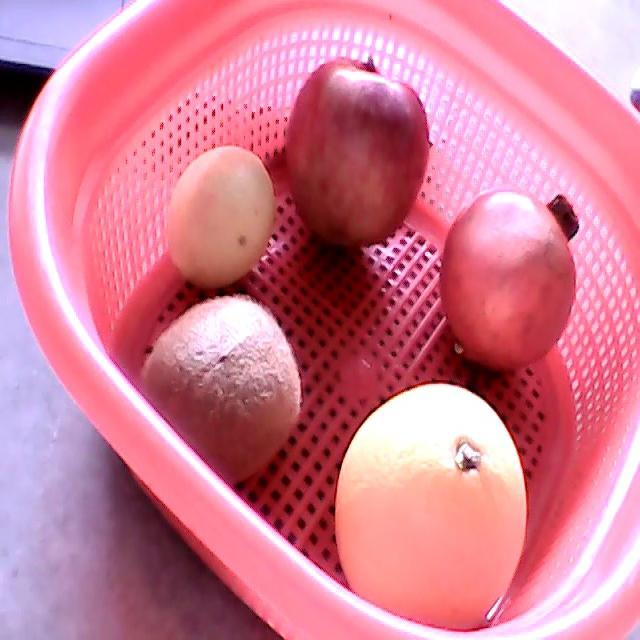apple: (285, 56, 429, 247)
kiwi: (139, 296, 300, 487)
lemon: (167, 145, 275, 289)
orange: (334, 382, 527, 631)
pomegranate: (438, 191, 581, 373)
